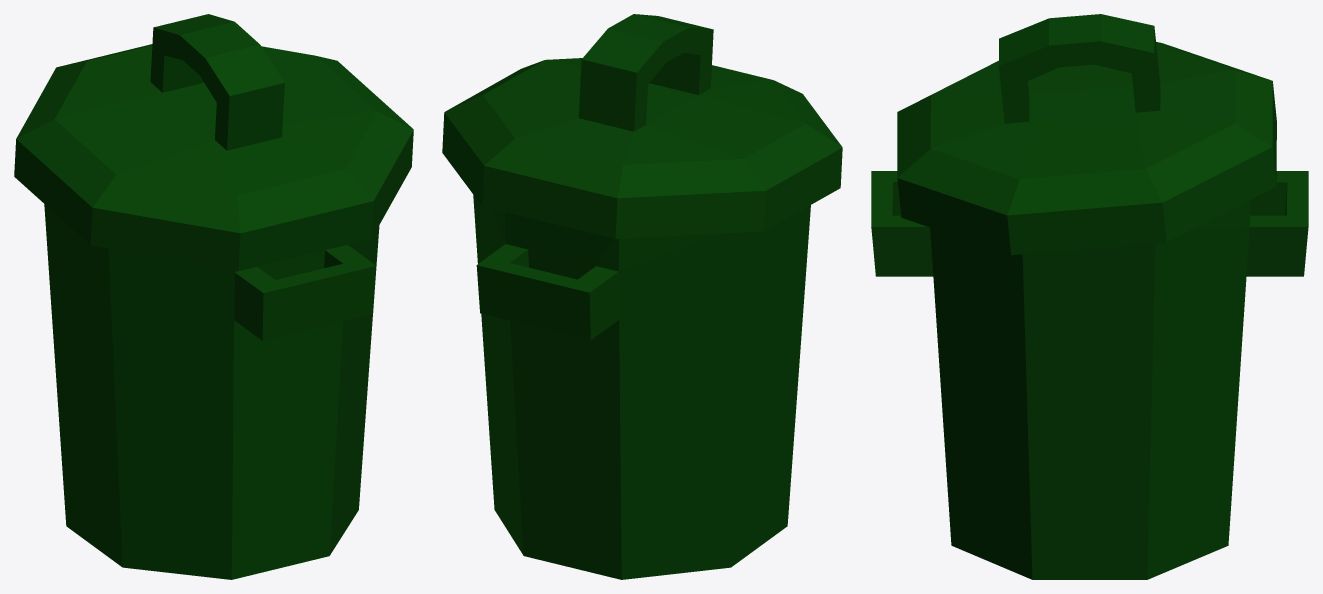
File: TrashCan.fbx
3 views of the same model, side by side, from view 1: azimuth 30°, elevation 25°; view 2: azimuth 150°, elevation 25°; view 3: azimuth 270°, elevation 25° (orthographic).
Visible parts, largest first — view 1: Cylinder.012; view 2: Cylinder.012; view 3: Cylinder.012.
Part boxes in pixels (bbox=[...]): Cylinder.012: bbox=[14, 14, 413, 579]; Cylinder.012: bbox=[442, 14, 842, 579]; Cylinder.012: bbox=[871, 14, 1308, 579].
Size of the model in its own units: 69.11 by 99.86 by 80.17.
